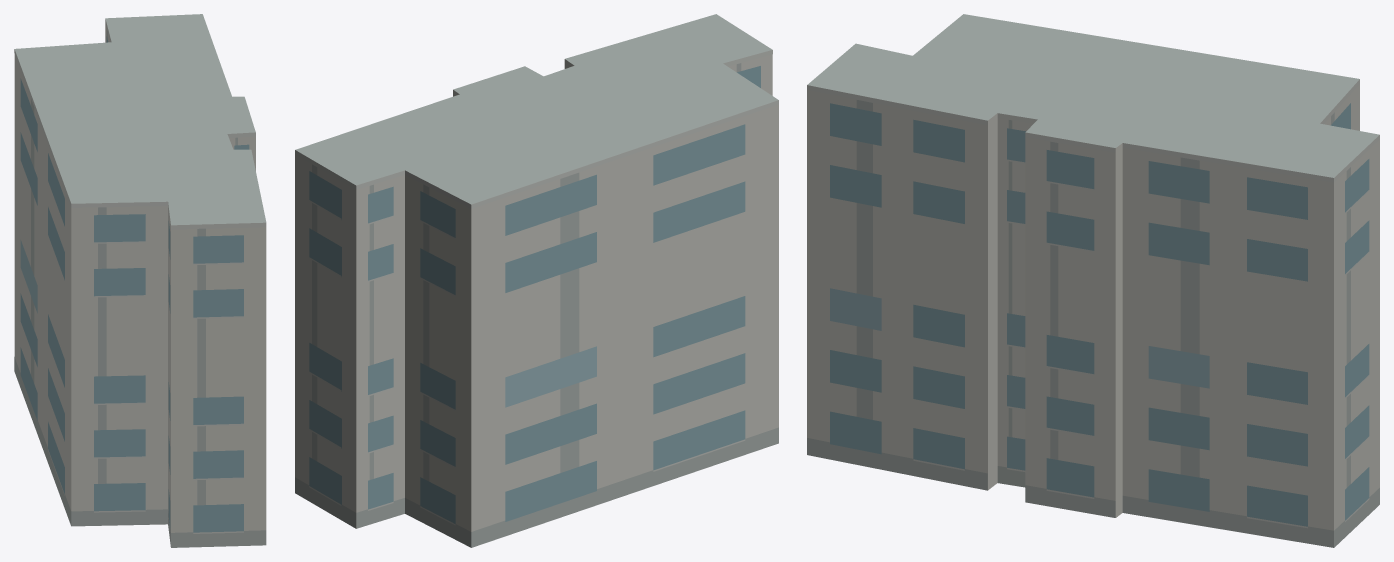
The model's file is survey-upis-32677153.glb.
3 renders of one model, left to right at view 1: azimuth 30°, elevation 25°; view 2: azimuth 150°, elevation 25°; view 3: azimuth 270°, elevation 25°, orthographic. The views are drawn at different scales.
Visible parts, largest first — view 1: survey-upis-32677153.tmp; view 2: survey-upis-32677153.tmp; view 3: survey-upis-32677153.tmp.
Boxes of the visible parts, <box> form: survey-upis-32677153.tmp: <box>14,14,266,547</box>; survey-upis-32677153.tmp: <box>295,14,778,547</box>; survey-upis-32677153.tmp: <box>807,14,1379,547</box>.
Bounding box in the file's own units: 17.5 × 18.4 × 25.83.
